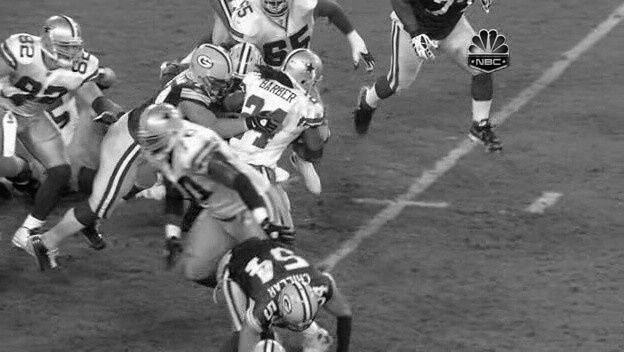person: (289, 51, 323, 94), (288, 51, 322, 94), (290, 51, 324, 94), (289, 50, 323, 93), (289, 52, 323, 95)
target_negative: (92, 77, 268, 265), (257, 72, 423, 211), (275, 217, 429, 334), (401, 226, 504, 341), (471, 151, 595, 232), (540, 270, 577, 290)
